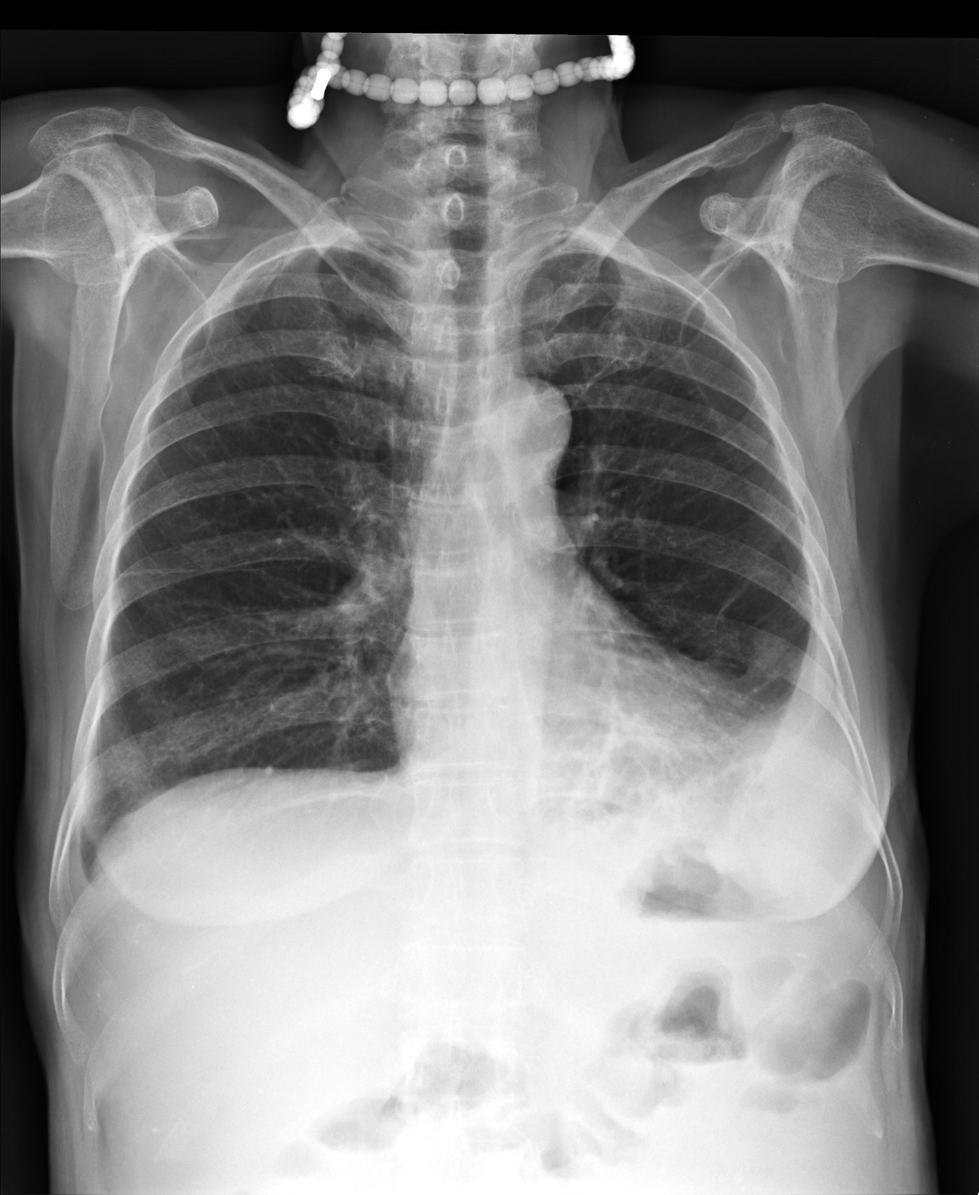Pleural thickening: (54, 821, 91, 894)
